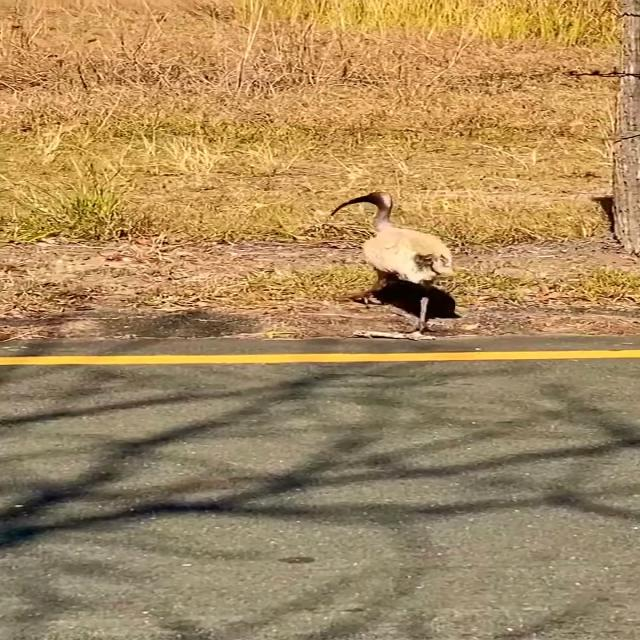Birds-Ibis: (326, 186, 462, 342)
